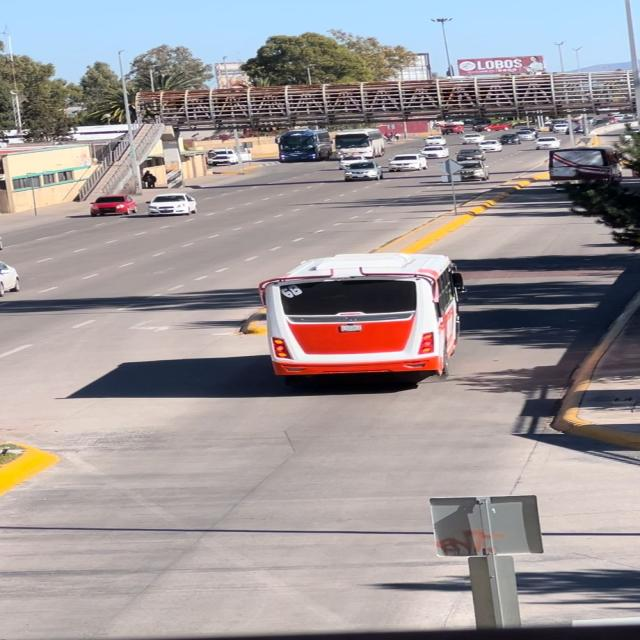Auto: (444, 156, 495, 182), (90, 191, 134, 221), (148, 188, 198, 214), (390, 149, 432, 175), (347, 159, 380, 181), (458, 144, 485, 163), (537, 135, 560, 151), (421, 144, 445, 158), (496, 134, 521, 146), (517, 127, 538, 141), (549, 122, 570, 136), (476, 140, 498, 153), (438, 124, 466, 134), (464, 134, 489, 144), (471, 124, 512, 130), (427, 134, 451, 144)
Autobus: (254, 248, 473, 390), (333, 130, 387, 157)
Peaton: (133, 167, 165, 190)
